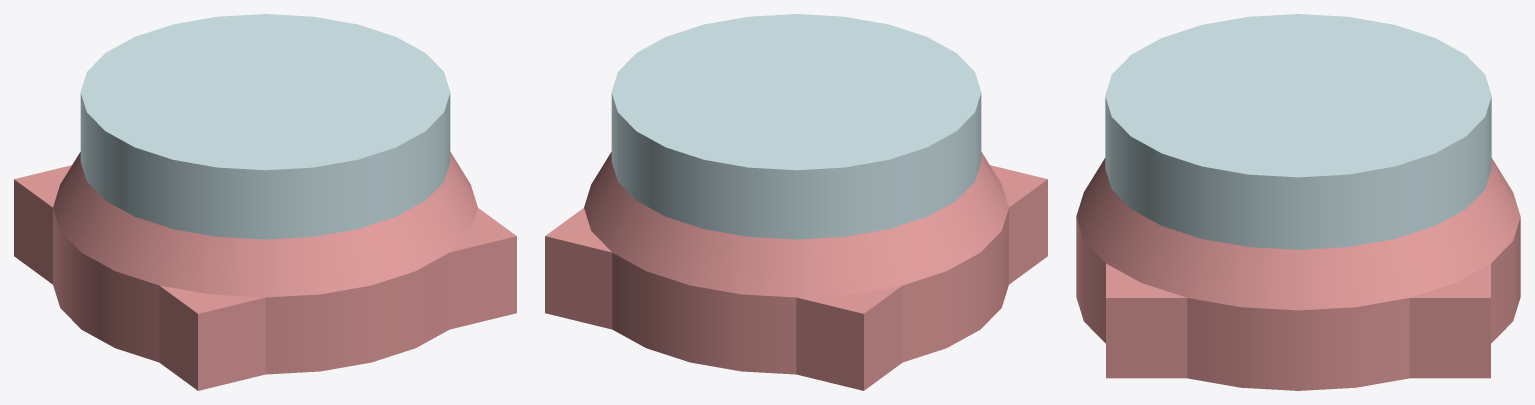
Rendered from towerRound_bottomB.glb.
3 views of the same model, side by side, from view 1: azimuth 30°, elevation 25°; view 2: azimuth 150°, elevation 25°; view 3: azimuth 270°, elevation 25° (orthographic). The views are drawn at different scales.
Visible parts, largest first — view 1: towerRound_bottomB; view 2: towerRound_bottomB; view 3: towerRound_bottomB.
Boxes of the visible parts, x1,y1,x2,y2 form: towerRound_bottomB: (14,14,516,390); towerRound_bottomB: (545,14,1047,390); towerRound_bottomB: (1076,14,1520,390).
Bounding box in the file's own units: 1 × 0.5 × 1.
